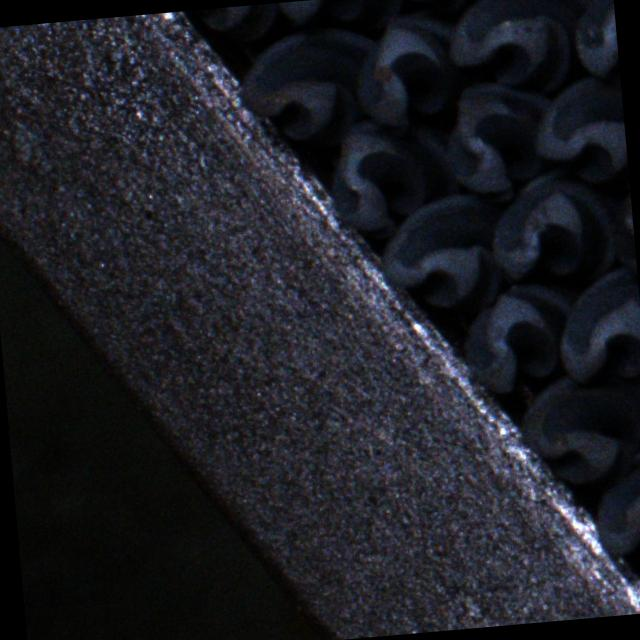tool_b: (236, 23, 384, 150), (326, 115, 465, 244), (374, 194, 506, 320), (485, 165, 622, 282), (444, 0, 600, 97), (456, 279, 580, 401), (514, 371, 640, 490), (442, 77, 562, 200), (348, 10, 463, 128), (532, 73, 629, 186), (556, 268, 640, 387), (181, 1, 301, 48), (593, 461, 640, 575), (275, 0, 402, 35), (570, 0, 620, 83), (606, 162, 638, 284), (391, 0, 517, 13)
